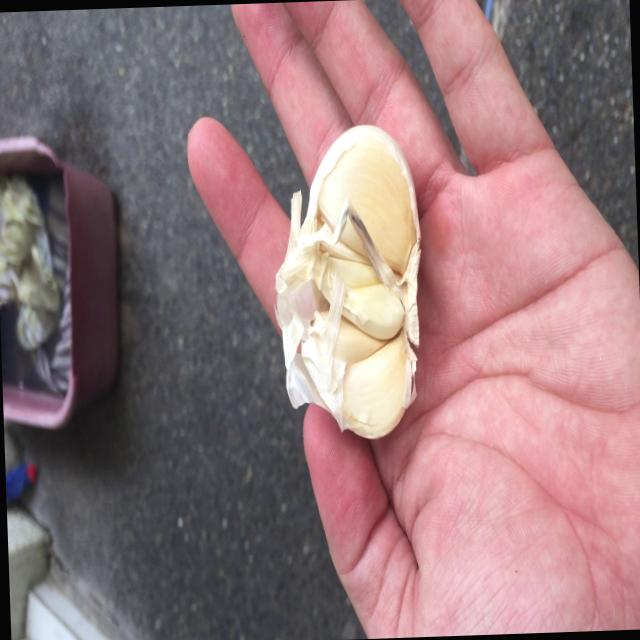garlic: (276, 116, 439, 441)
